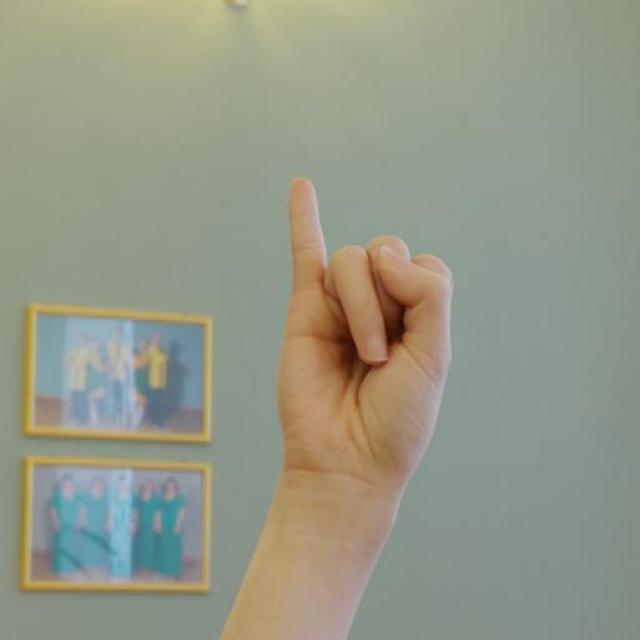I: (244, 146, 480, 519)
